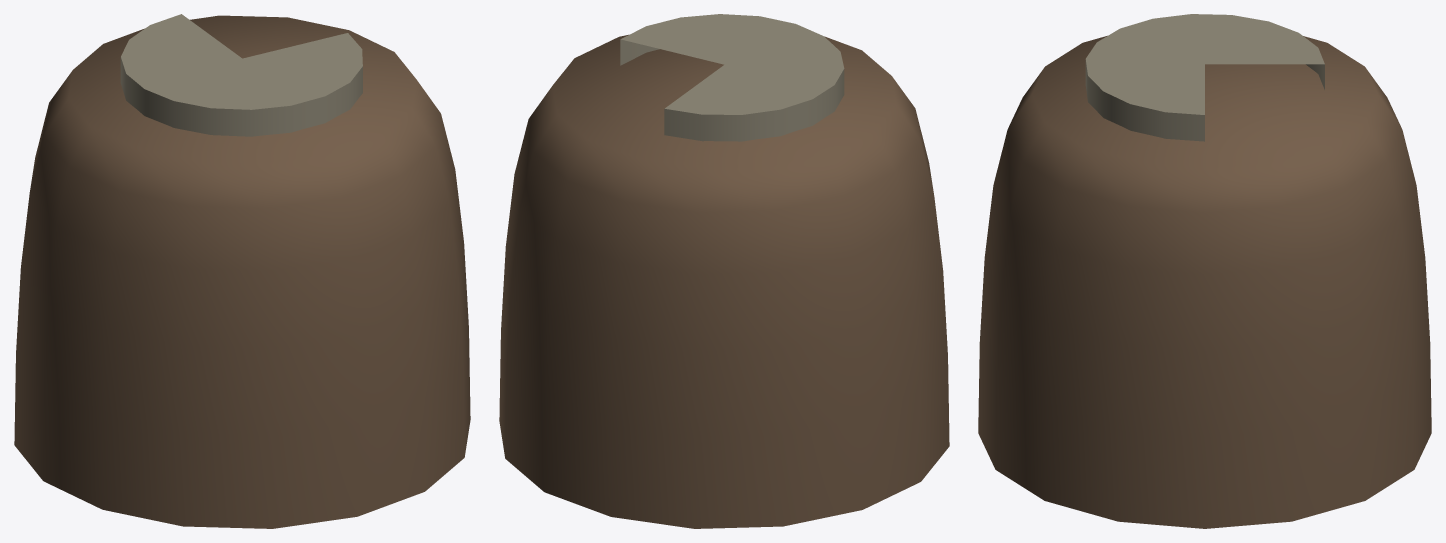
File: wind_robe.obj
3 renders of one model, left to right at view 1: azimuth 30°, elevation 25°; view 2: azimuth 150°, elevation 25°; view 3: azimuth 270°, elevation 25°, orthographic.
Visible parts, largest first — view 1: wind_robe; view 2: wind_robe; view 3: wind_robe.
Boxes of the visible parts, left/top/right/bottom form: wind_robe: left=14, top=14, right=470, bottom=528; wind_robe: left=499, top=14, right=949, bottom=528; wind_robe: left=978, top=14, right=1431, bottom=528.
Bounding box in the file's own units: 1.36 × 1.22 × 1.36.
